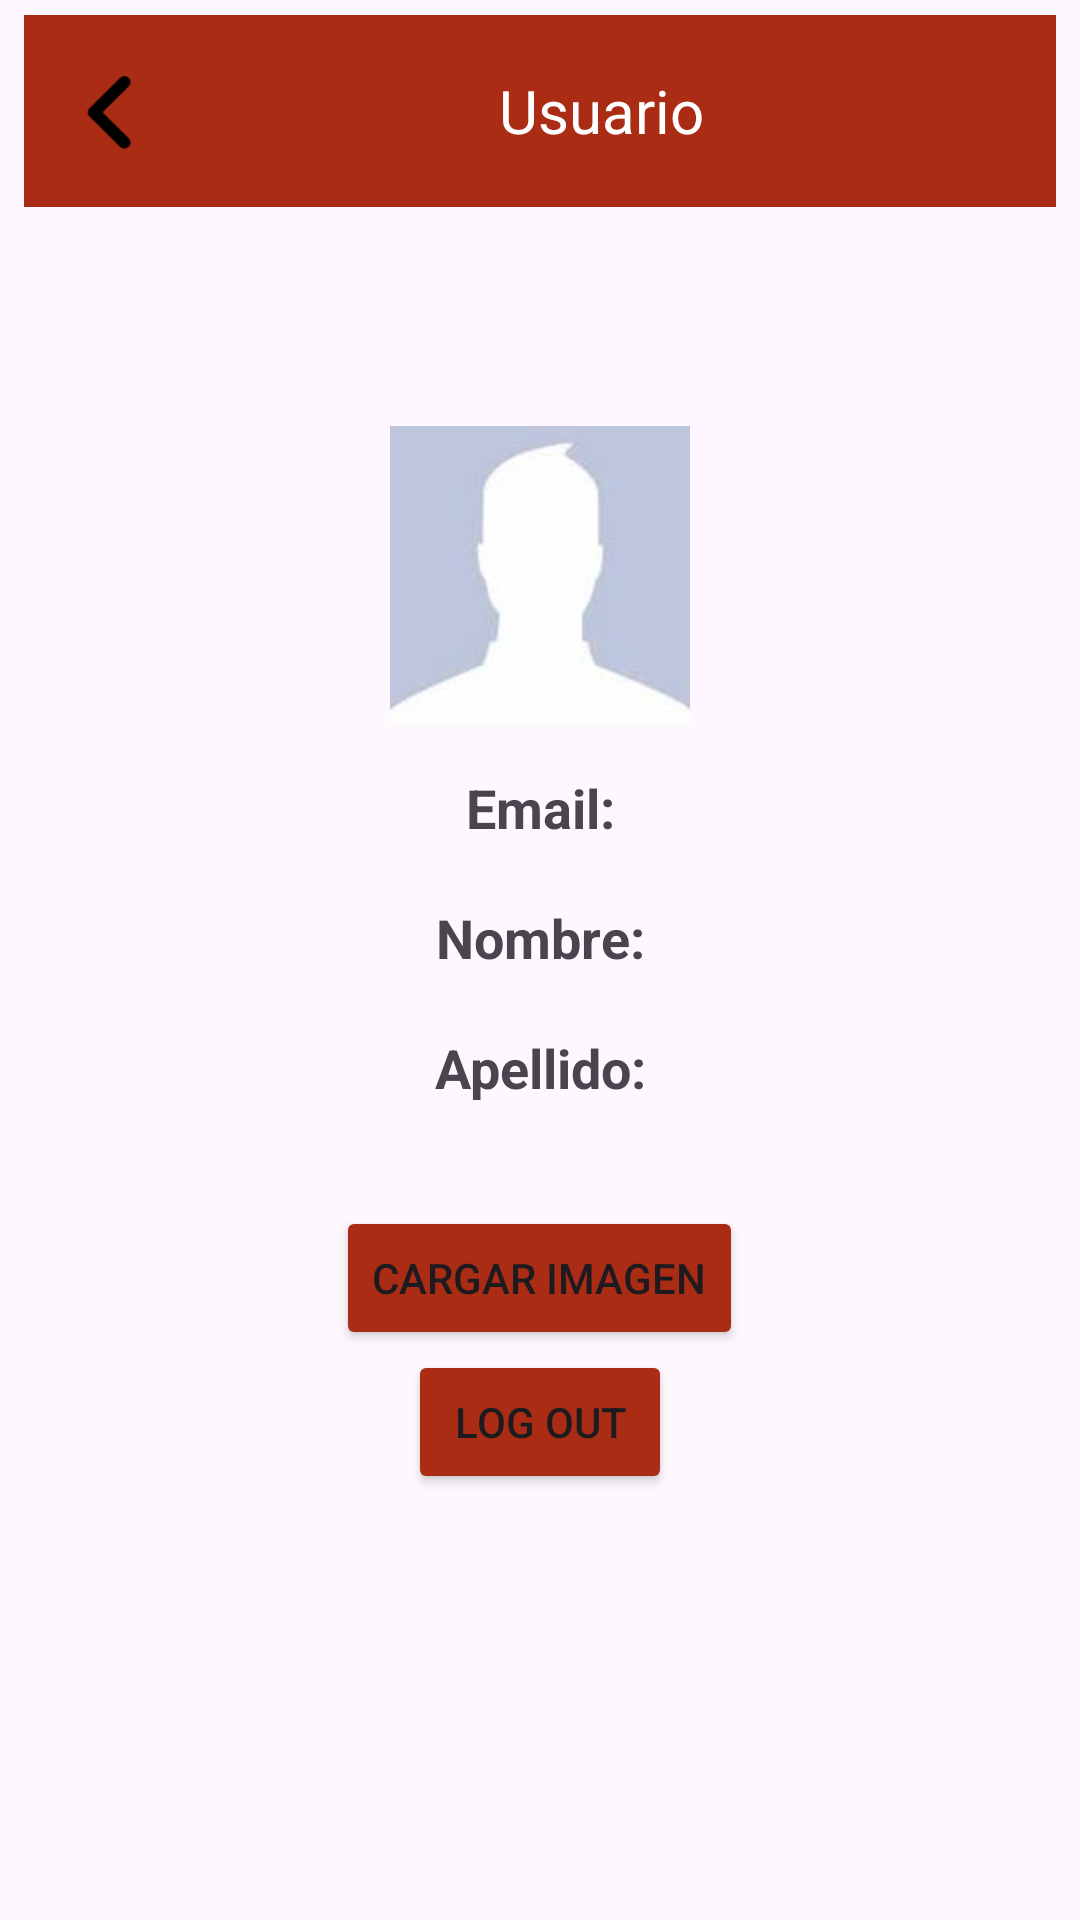

Screen size 1080px x 1920px. Icon name, then its box in pixels as (x1, y1, x2, y2):
foto perfil: (390, 426, 690, 709)
volver atras: (87, 76, 131, 149)
